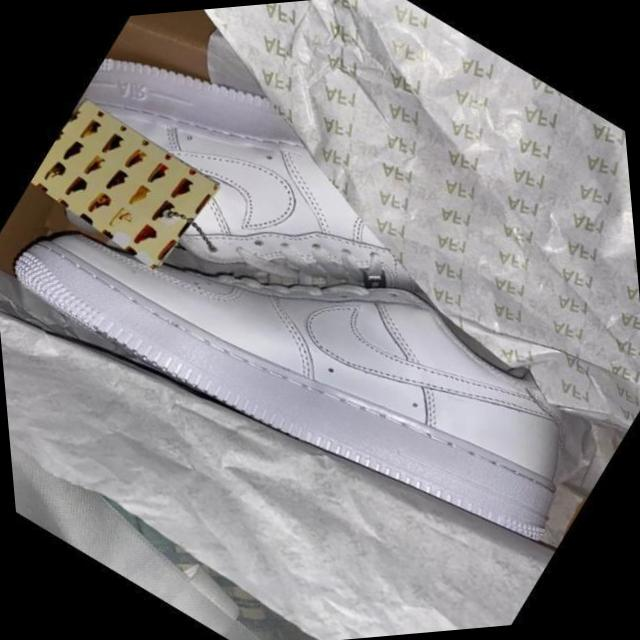nike_fake_airforce: (0, 59, 636, 631)
